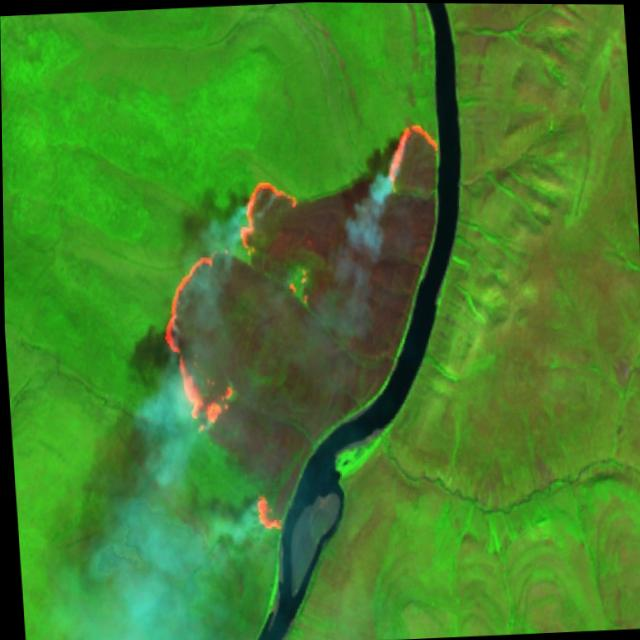fire: (142, 114, 465, 553)
